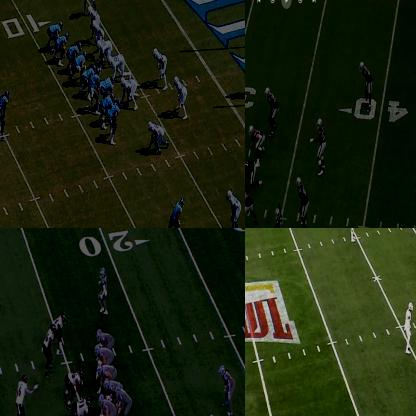CENTER: (94, 389, 112, 415), (102, 75, 113, 89)
DB: (360, 61, 372, 109), (228, 191, 241, 227), (408, 300, 416, 353), (274, 205, 284, 227), (90, 5, 100, 20), (349, 228, 358, 243), (84, 0, 98, 7)
LB: (314, 118, 327, 174), (44, 321, 59, 368), (54, 313, 68, 357), (296, 177, 308, 227), (266, 86, 277, 133), (176, 76, 188, 114), (17, 375, 28, 415), (156, 47, 166, 87), (0, 89, 8, 138), (91, 22, 104, 37)
QB: (114, 382, 129, 414), (90, 68, 98, 106)
SKILL: (220, 363, 238, 415), (166, 200, 185, 227), (99, 264, 109, 314), (96, 327, 118, 346), (95, 344, 114, 362), (54, 31, 70, 50), (48, 20, 62, 39)
